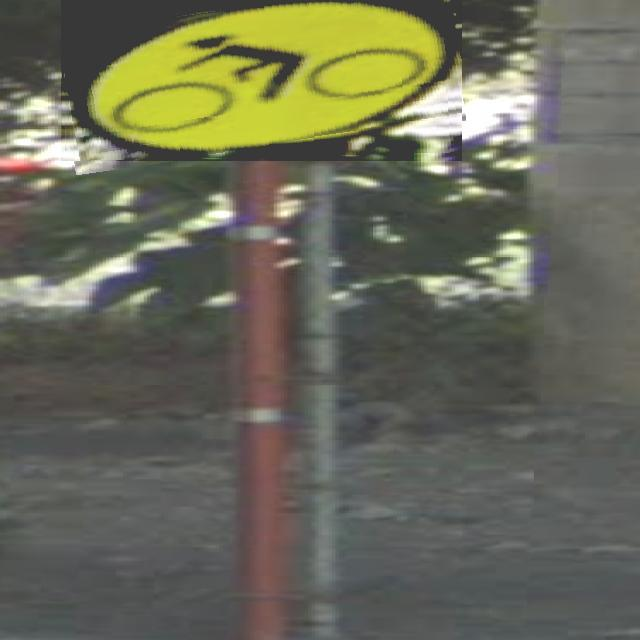bike lane: (61, 0, 462, 161)
